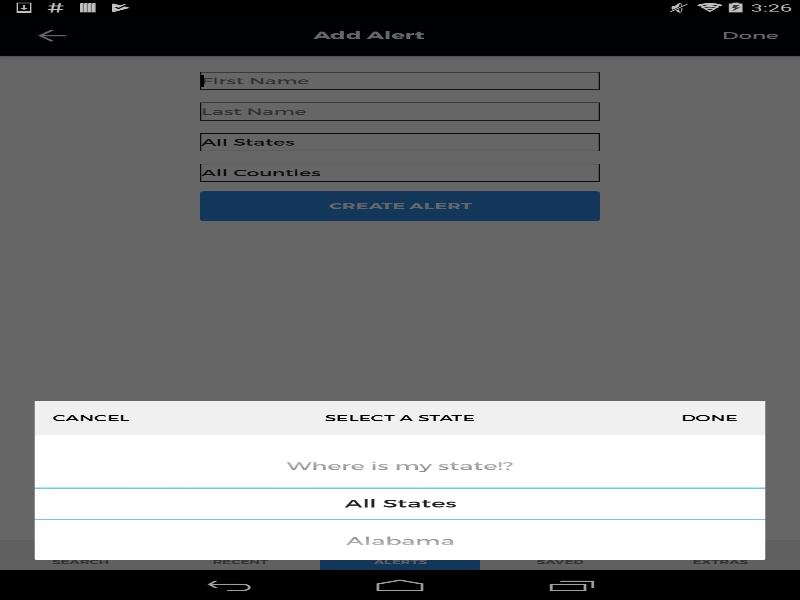Button: (34, 518, 765, 560), (34, 447, 765, 488), (666, 401, 752, 435), (48, 401, 133, 435)
Input: (34, 488, 765, 518)
